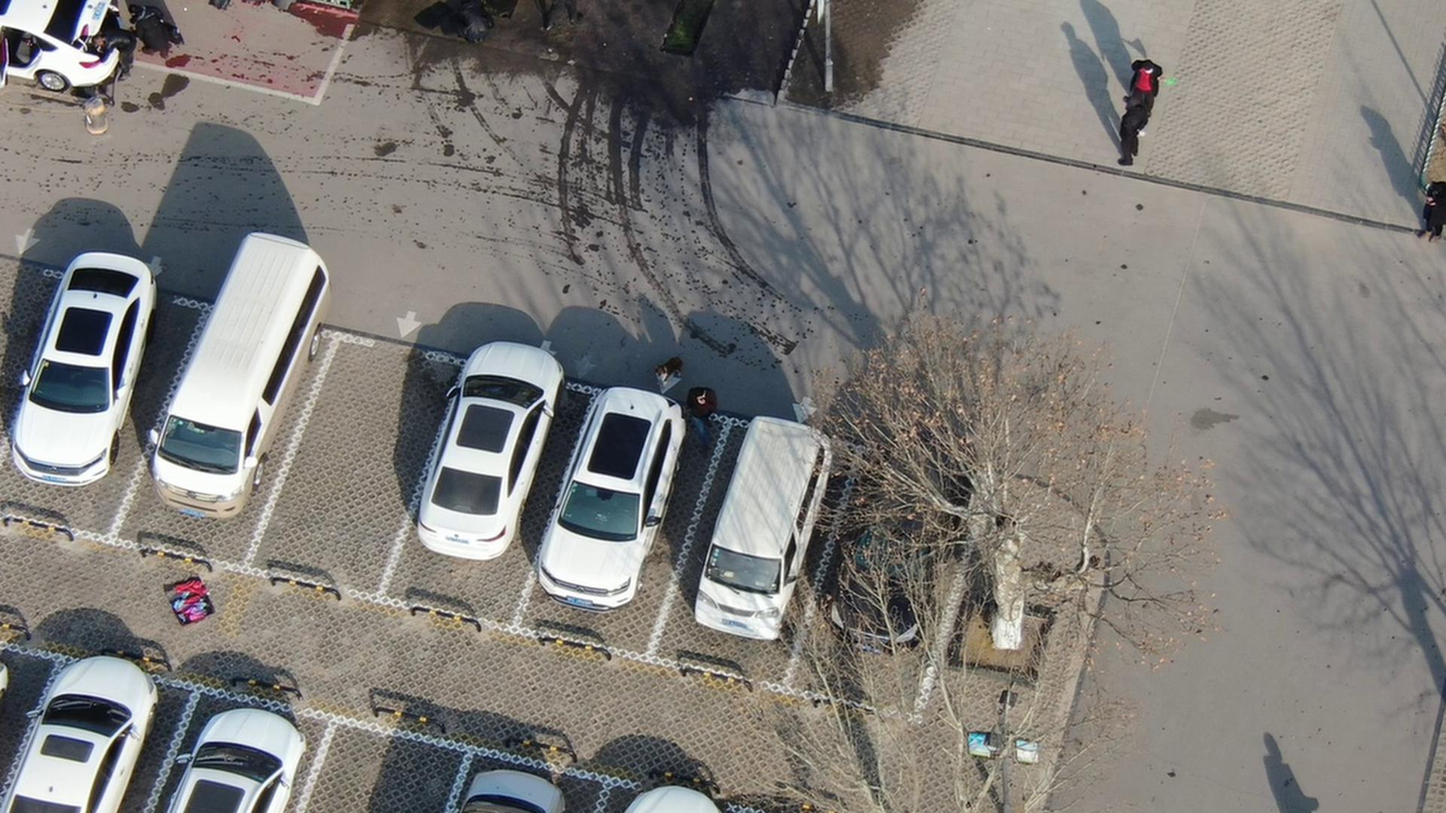class_2: (1115, 50, 1162, 170)
human: (1408, 179, 1446, 253), (102, 19, 145, 83), (685, 382, 718, 449), (142, 1, 175, 55), (450, 1, 493, 41)
